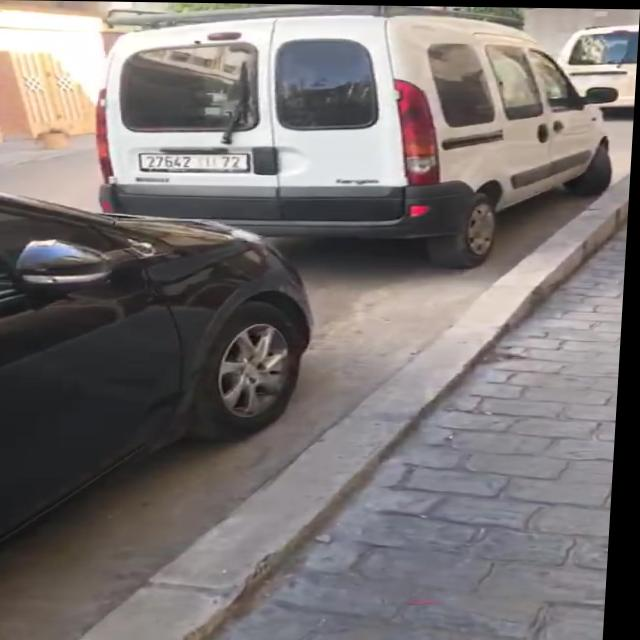License-Plate: (141, 153, 248, 171)
